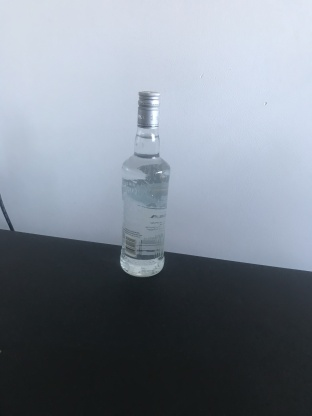nakretka: (136, 89, 161, 130)
